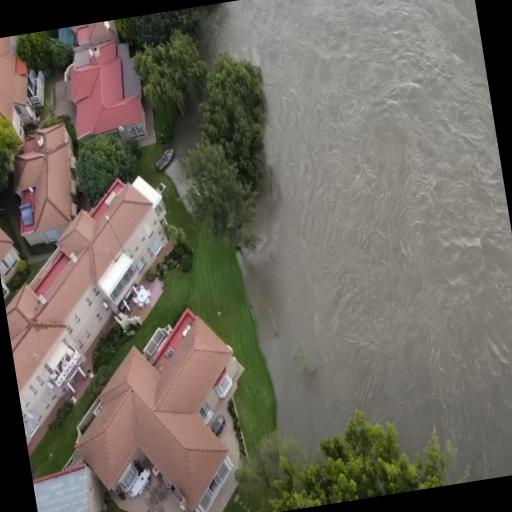flood: (200, 0, 512, 482), (164, 104, 200, 211)
house: (0, 161, 207, 454), (61, 295, 276, 512), (58, 18, 145, 150), (6, 118, 86, 240), (0, 31, 56, 154), (31, 460, 120, 512), (0, 193, 28, 297)
